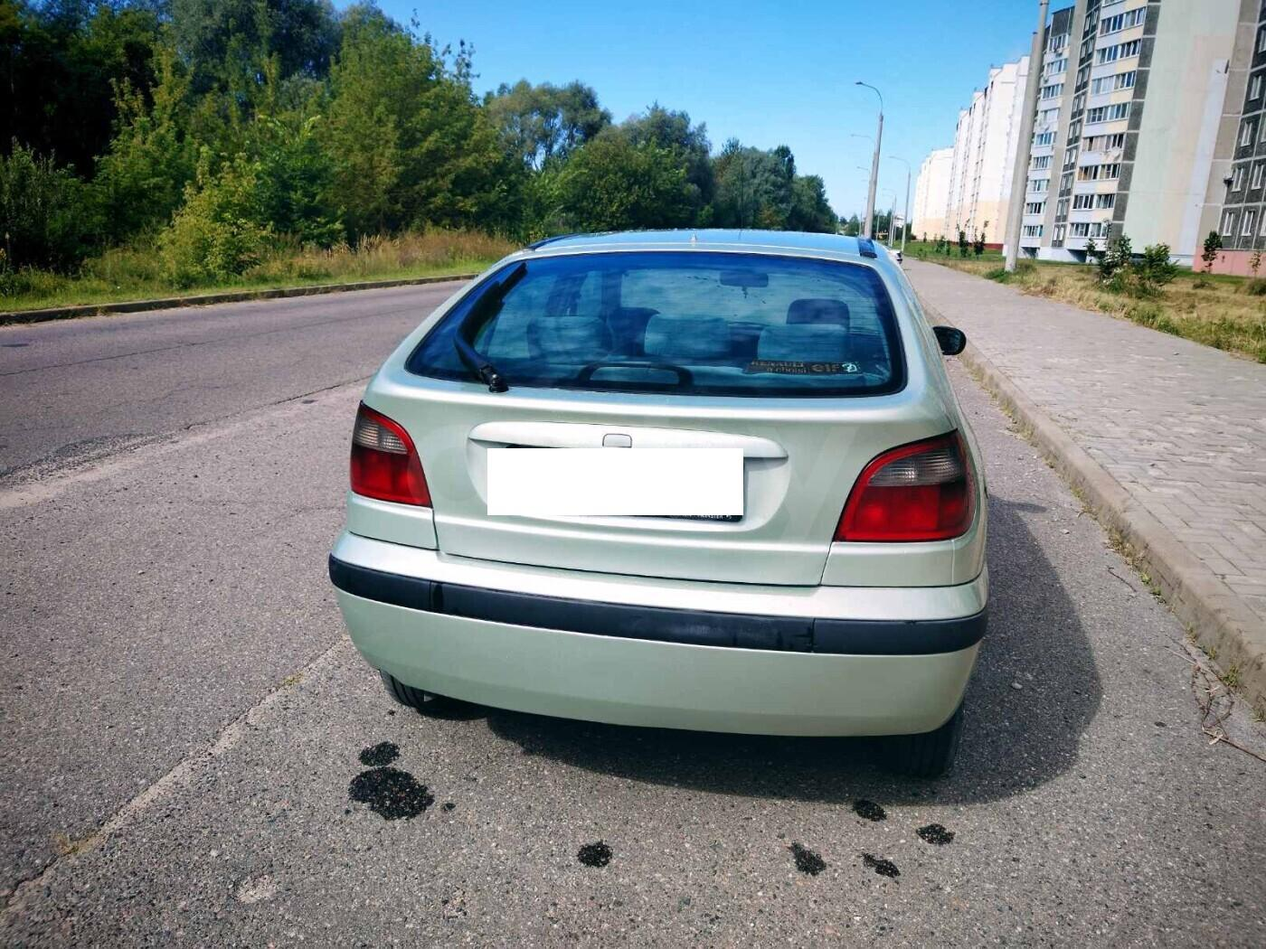Megane_1999-2003: (326, 222, 1005, 775)
